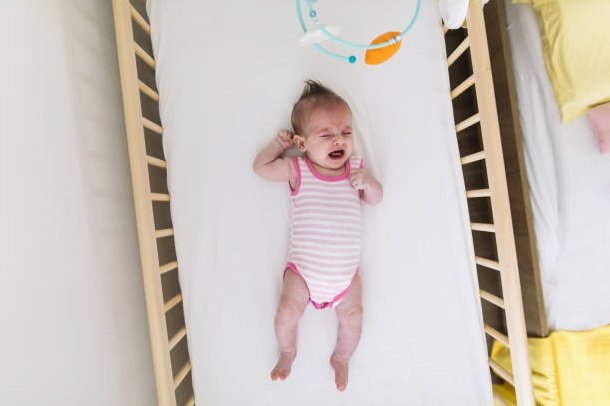baby: (253, 80, 382, 390)
crib: (445, 0, 533, 404)
